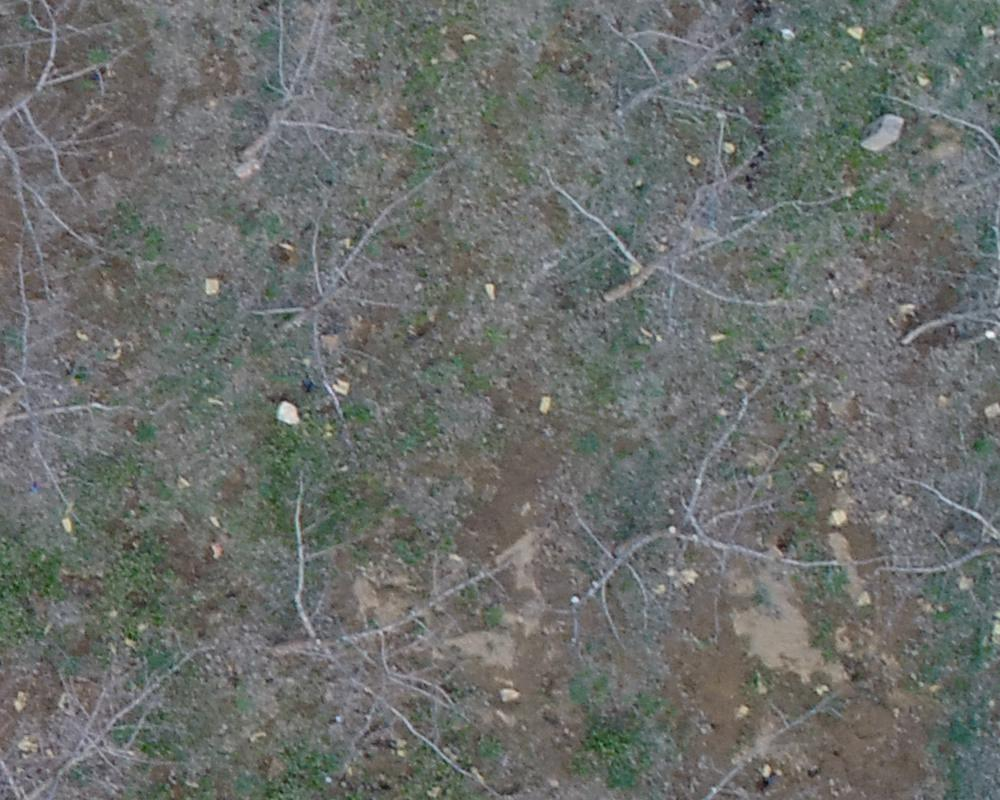apple: (257, 480, 521, 790), (549, 370, 859, 623), (530, 141, 862, 334), (254, 171, 465, 459), (198, 10, 457, 210), (554, 10, 796, 145), (10, 248, 122, 516), (875, 67, 990, 299)
